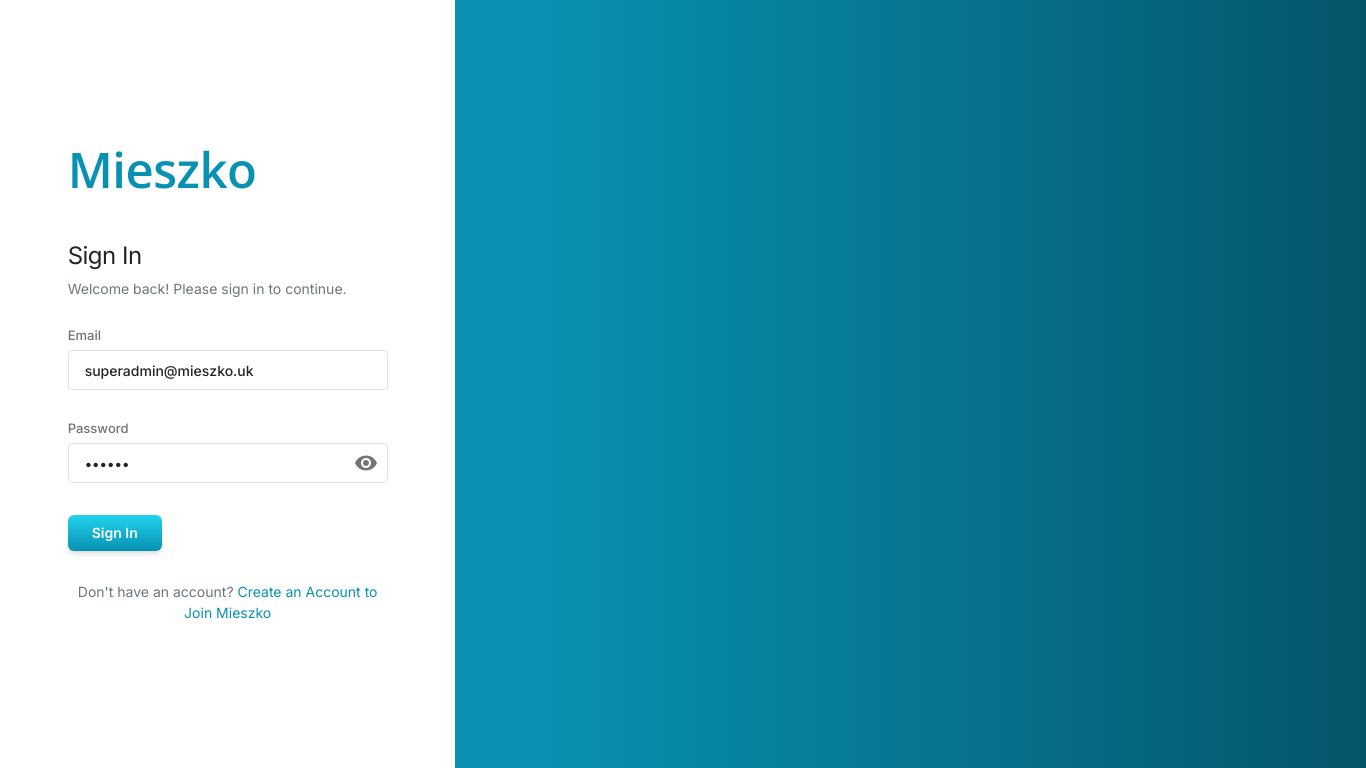
Test case: Password Visibility Toggle › should toggle password visibility
In the password field named "password": (228, 463) [68, 443, 388, 483], type "password123"
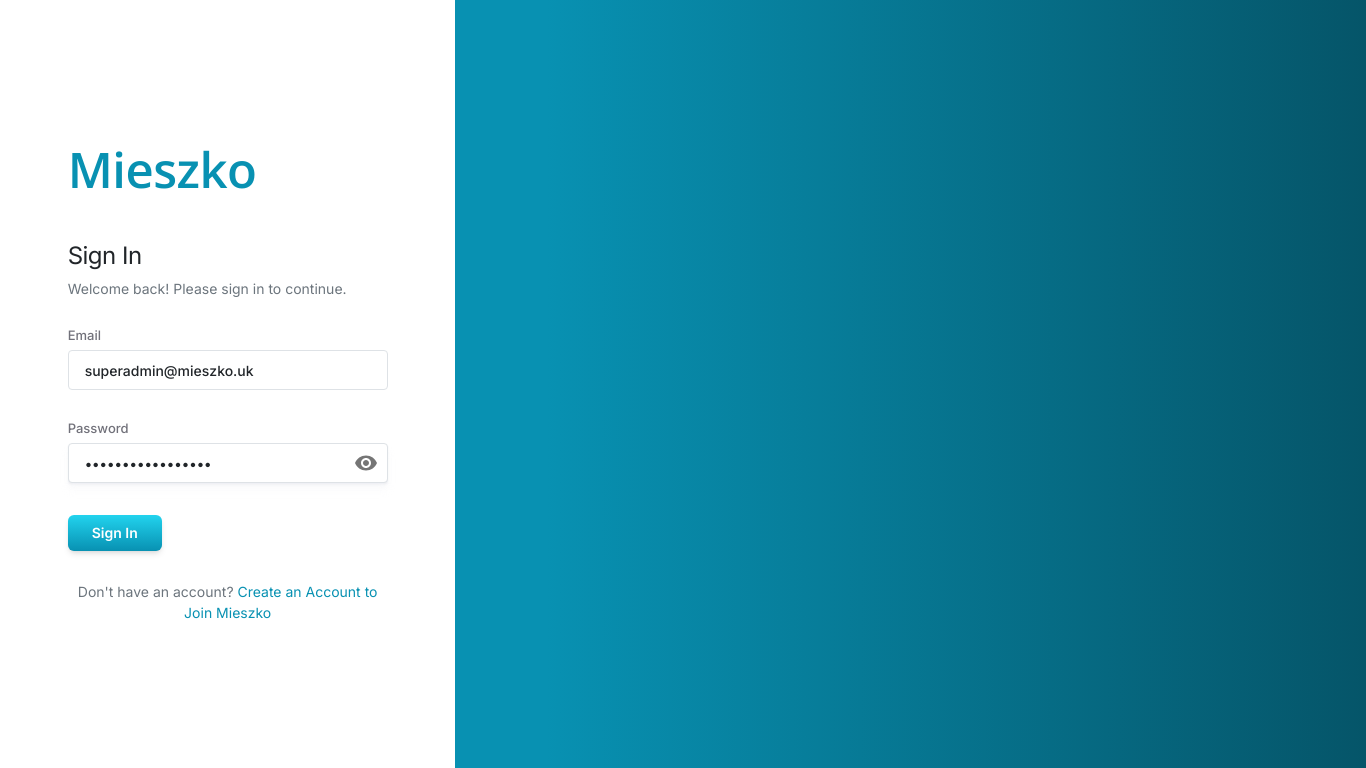
Click the button with id "toggle-password": (366, 463) [354, 443, 378, 483]
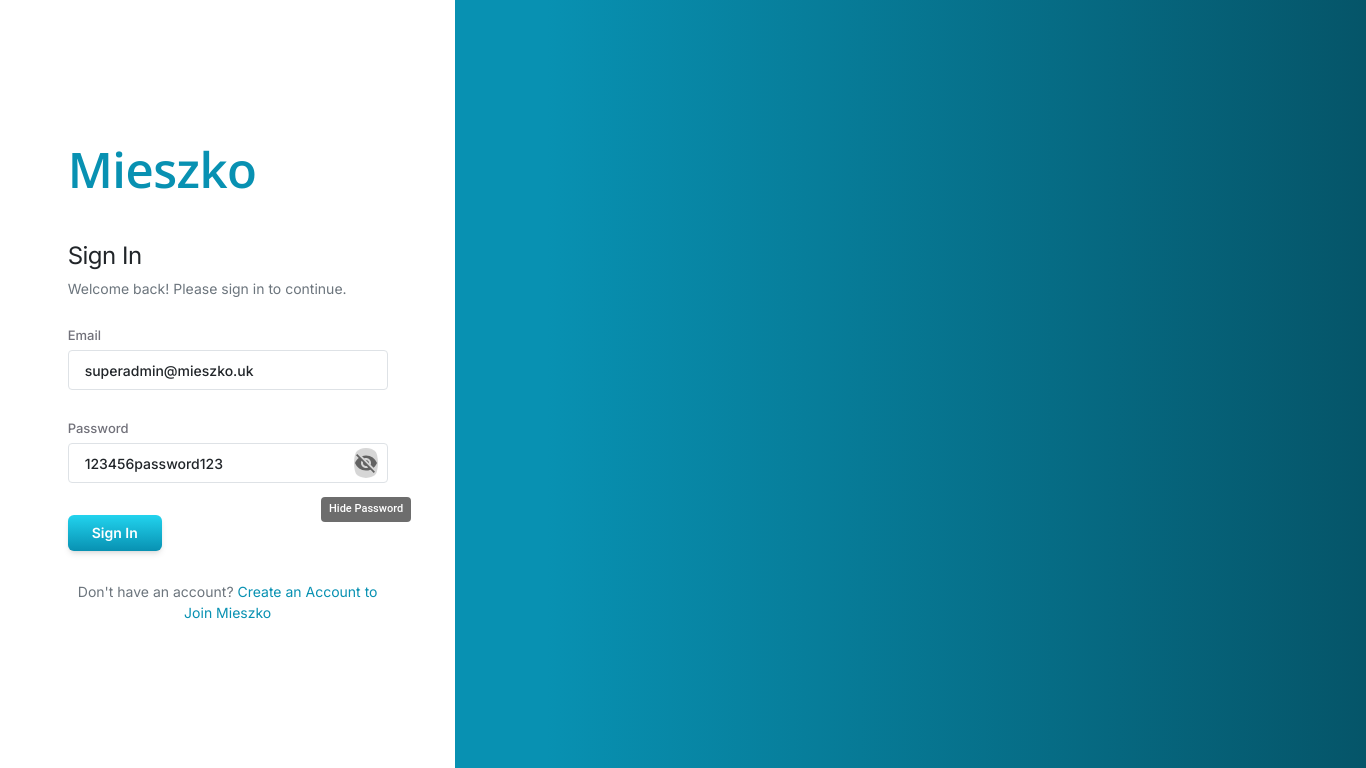
Result: the field named "password" shows its text at [68, 443, 388, 483]
Click the button with id "toggle-password": (366, 463) [354, 443, 378, 483]
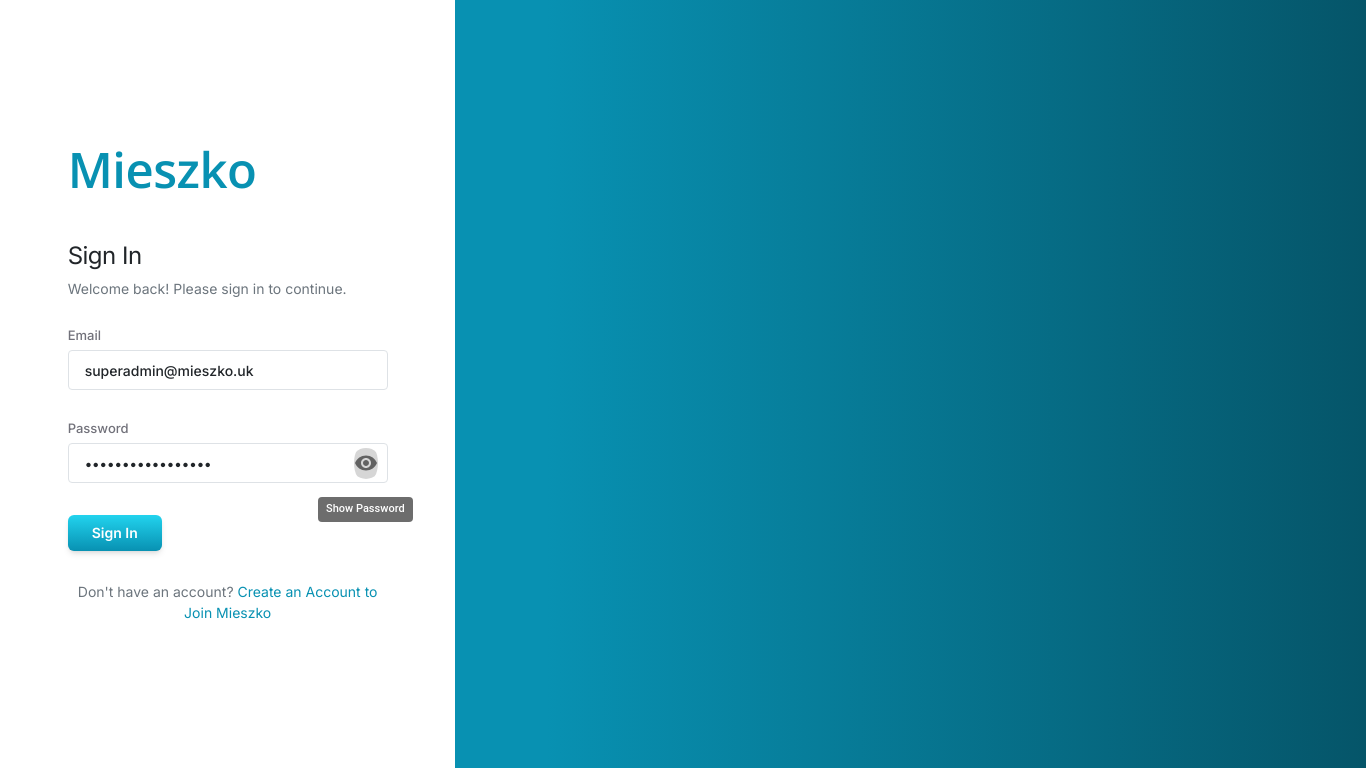
Result: the password field named "password" hides its text at [68, 443, 388, 483]
